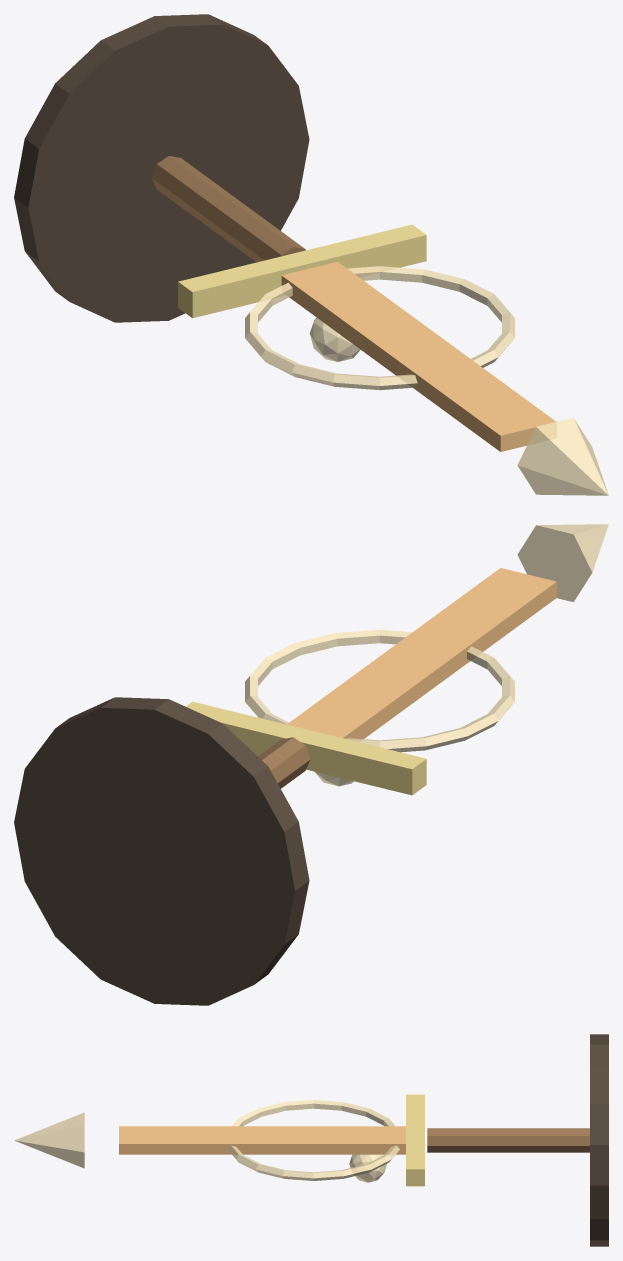
The model's file is 03_high_tier_magic_weapon.glb.
The picture shows the model from 3 angles, top to bottom: view 1: azimuth 30°, elevation 25°; view 2: azimuth 150°, elevation 25°; view 3: azimuth 270°, elevation 25°; orthographic projection. The views are drawn at different scales.
Visible parts, largest first — view 1: weapon_display_base, magic_blade_or_staff_core, relic_guard, weapon_aura_ring, weapon_grip, weapon_tip, socketed_gem; view 2: weapon_display_base, magic_blade_or_staff_core, relic_guard, weapon_aura_ring, weapon_tip, weapon_grip; view 3: magic_blade_or_staff_core, weapon_grip, weapon_display_base, weapon_aura_ring, weapon_tip, relic_guard, socketed_gem.
Part boxes in pixels (box(x1,y1,x2,y2)): weapon_display_base: box(14, 14, 309, 322); magic_blade_or_staff_core: box(281, 261, 556, 451); relic_guard: box(178, 224, 426, 318); weapon_aura_ring: box(245, 266, 514, 390); weapon_grip: box(152, 156, 305, 262); weapon_tip: box(517, 417, 608, 495); socketed_gem: box(309, 317, 360, 361); weapon_display_base: box(14, 697, 309, 1005); magic_blade_or_staff_core: box(287, 568, 556, 741); relic_guard: box(186, 701, 426, 795); weapon_aura_ring: box(245, 629, 514, 752); weapon_tip: box(517, 524, 608, 602); weapon_grip: box(258, 737, 310, 788); magic_blade_or_staff_core: box(119, 1126, 405, 1154); weapon_grip: box(427, 1128, 589, 1152); weapon_display_base: box(590, 1034, 608, 1246); weapon_aura_ring: box(227, 1100, 399, 1180); weapon_tip: box(14, 1112, 84, 1168); relic_guard: box(406, 1094, 424, 1186); socketed_gem: box(349, 1154, 386, 1182).
Bounding box in the file's own units: 0.9 × 0.9 × 2.52.
